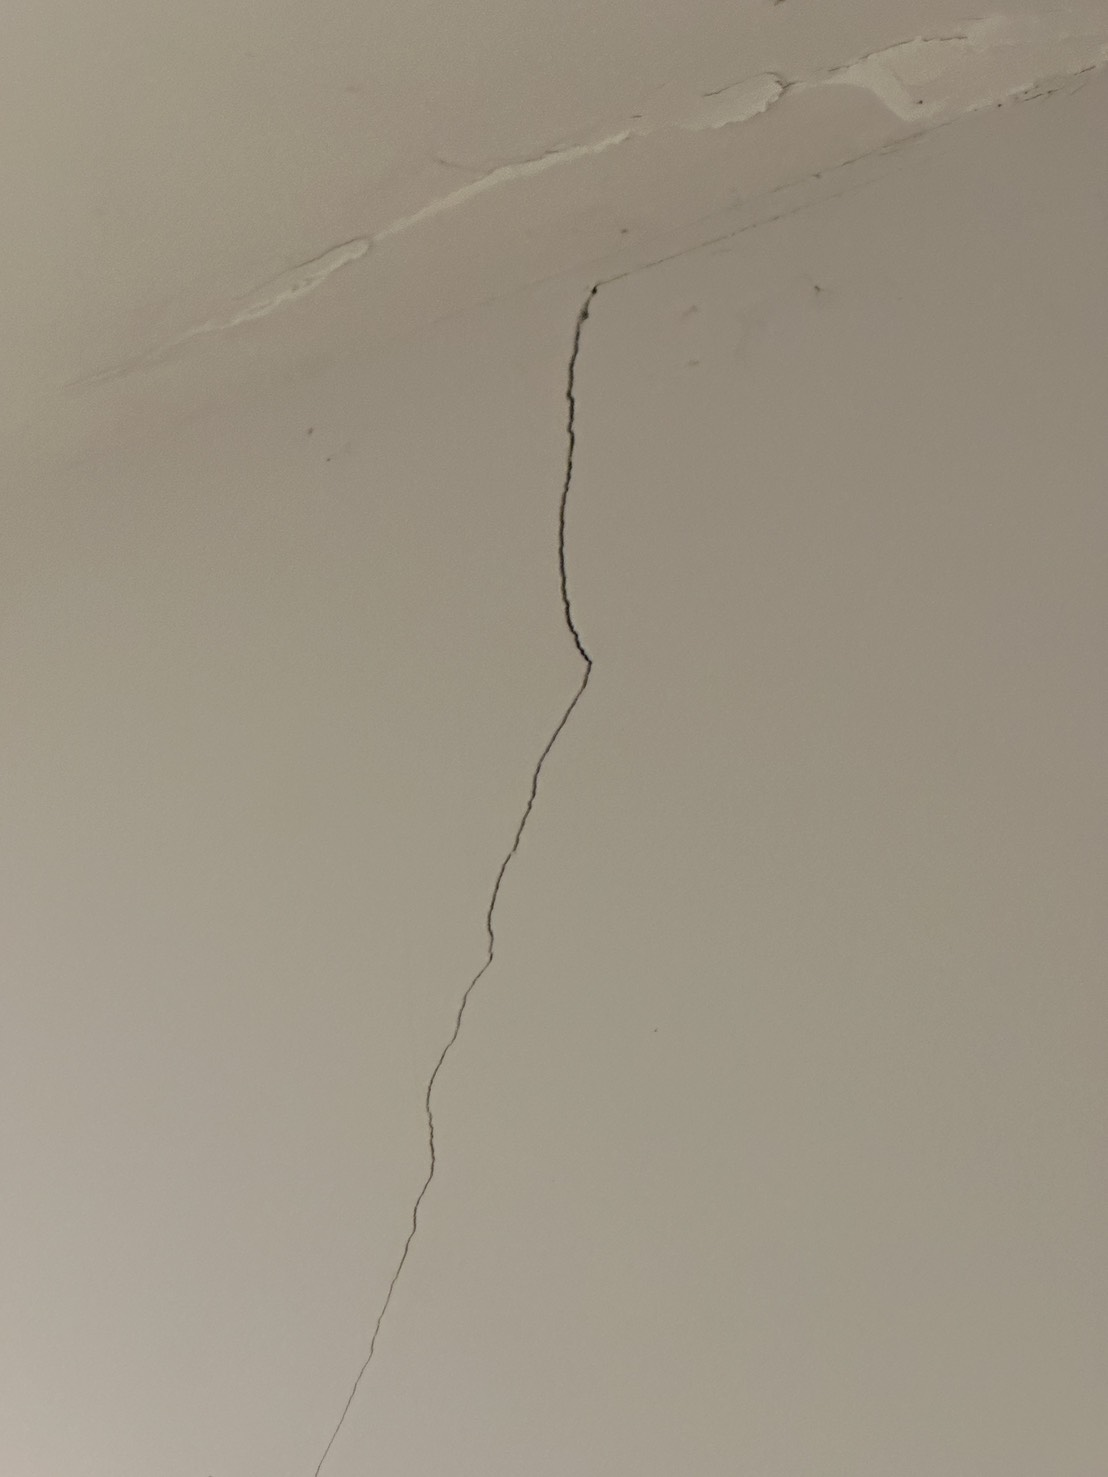Low: (306, 254, 717, 1461)
